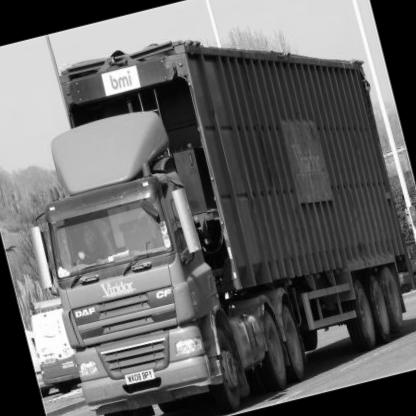truck: (6, 1, 416, 416)
